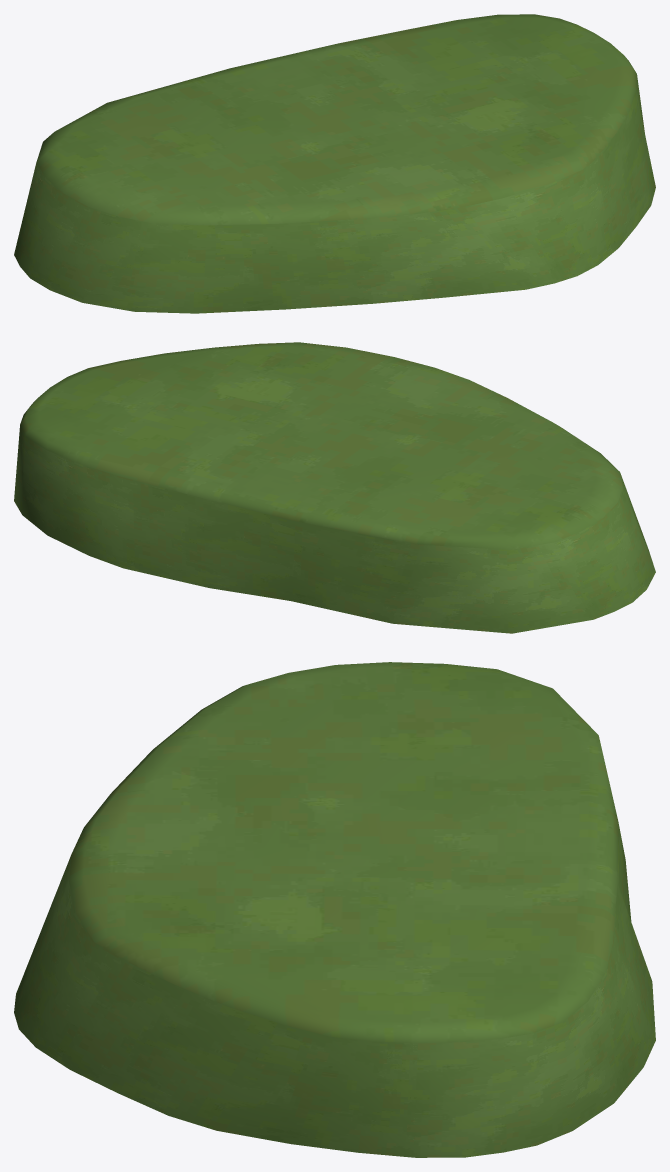
File: hill_2.fbx
The picture shows the model from 3 angles, top to bottom: view 1: azimuth 30°, elevation 25°; view 2: azimuth 150°, elevation 25°; view 3: azimuth 270°, elevation 25°; orthographic projection. The views are drawn at different scales.
Parts seen in each view (by area): view 1: hill_2; view 2: hill_2; view 3: hill_2.
Boxes of the visible parts, <box> form: hill_2: <box>14,14,655,313</box>; hill_2: <box>14,342,655,633</box>; hill_2: <box>14,662,655,1157</box>.
Bounding box in the file's own units: 1539 × 212 × 1023.
